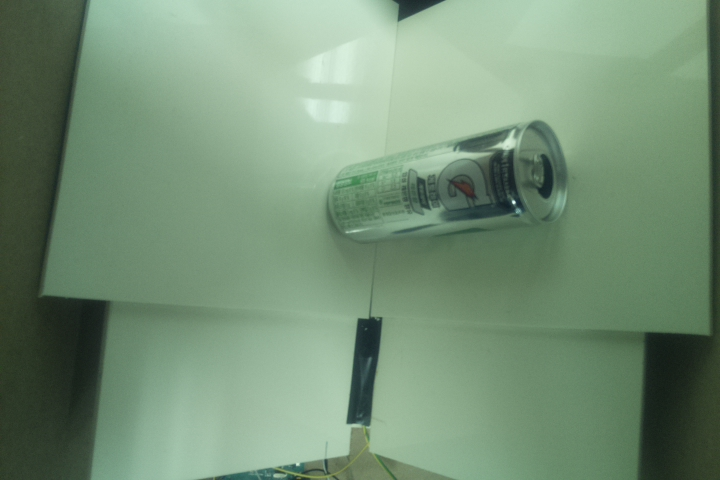can: (326, 119, 572, 244)
